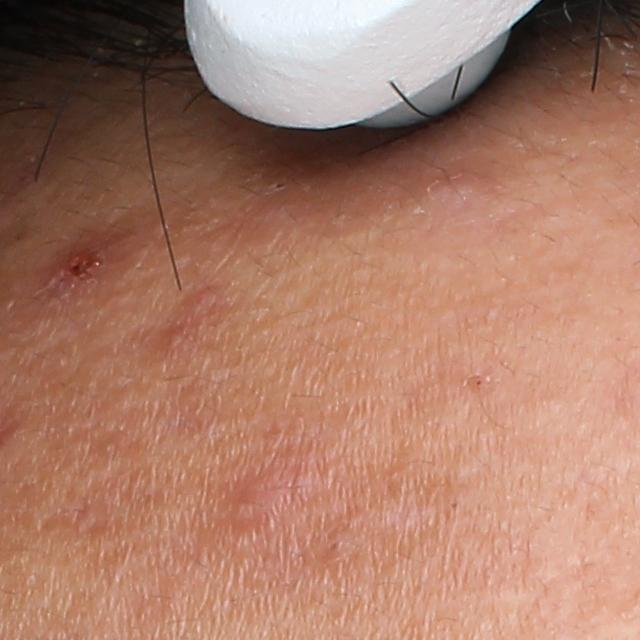papule: (222, 465, 308, 545), (54, 244, 106, 290)
